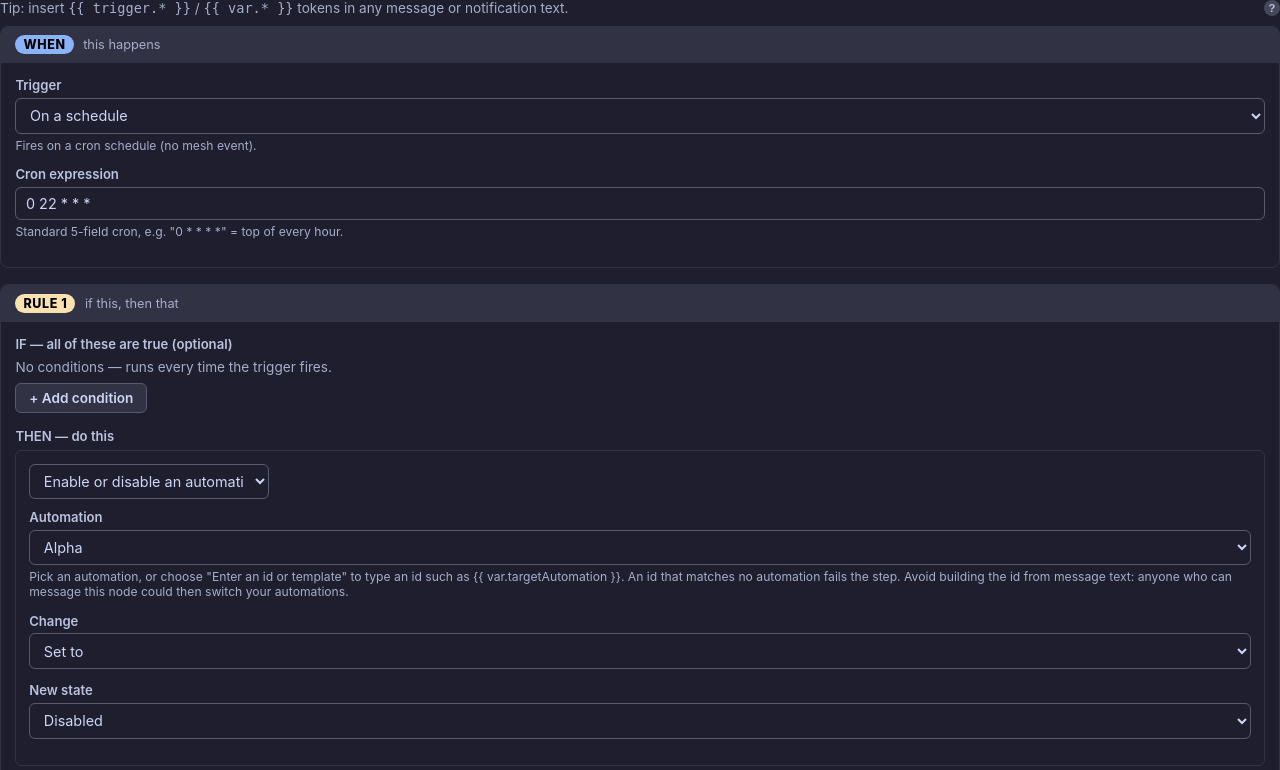
it: AutomationBuilder — setAutomationEnabled (#5445) › hides New state when Change is Toggle
expect the text "New state" is shown: met, box left=29, top=682, right=93, bottom=698
Select "Toggle (flip its current state)" in the dropdown showing "Set to" below "Change" at (640, 651), box left=29, top=633, right=1251, bottom=669
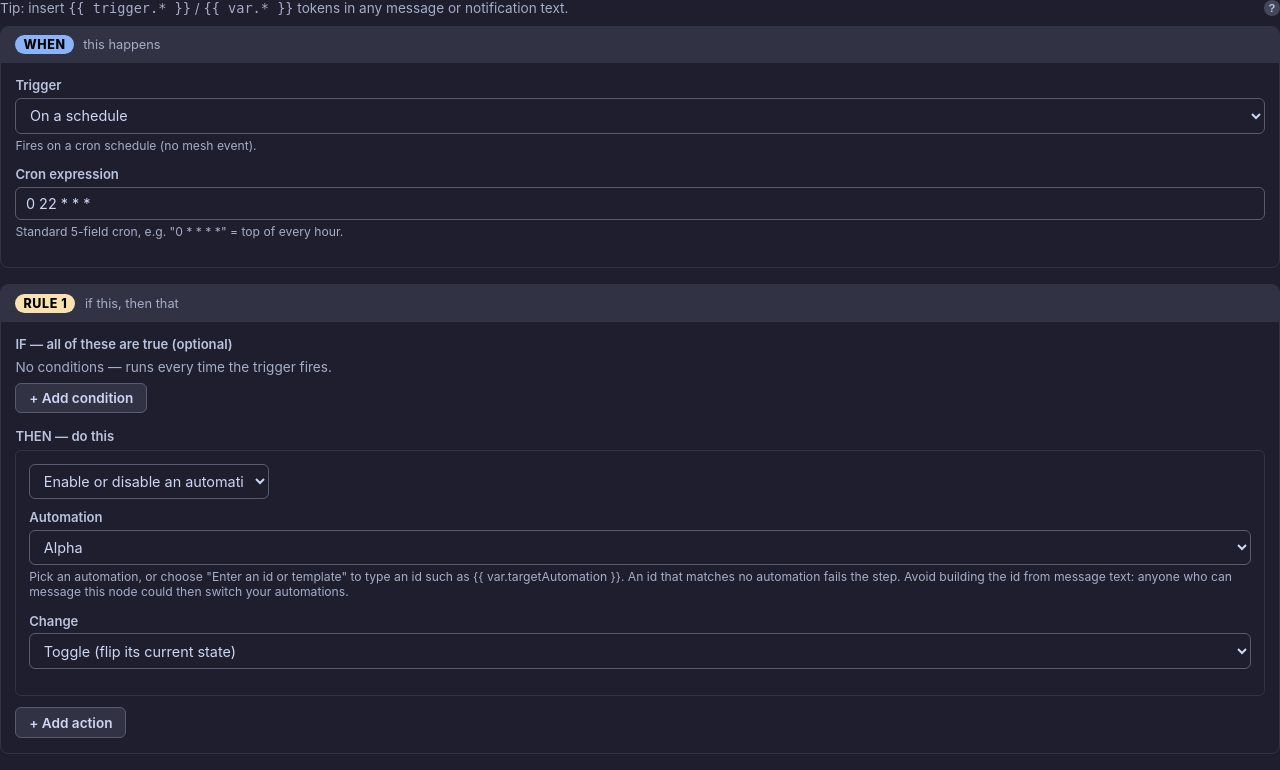
expect the text "New state" is gone: met
